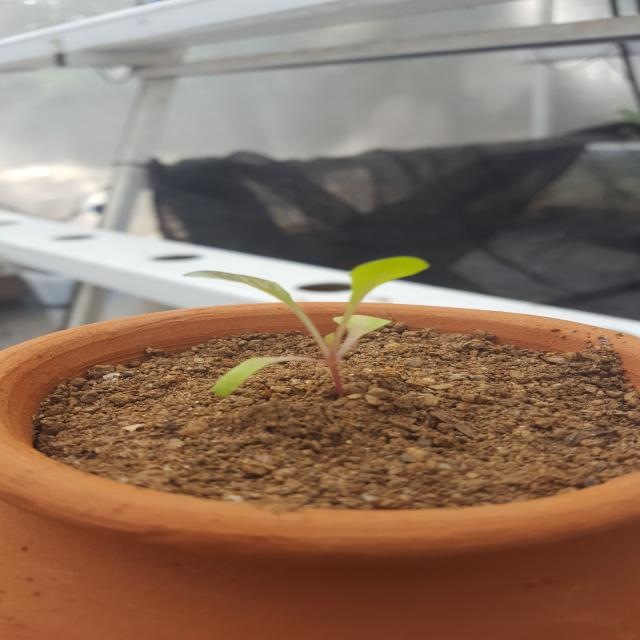Lettuce-Not-Ready-to-Harvest: (188, 256, 432, 398)
